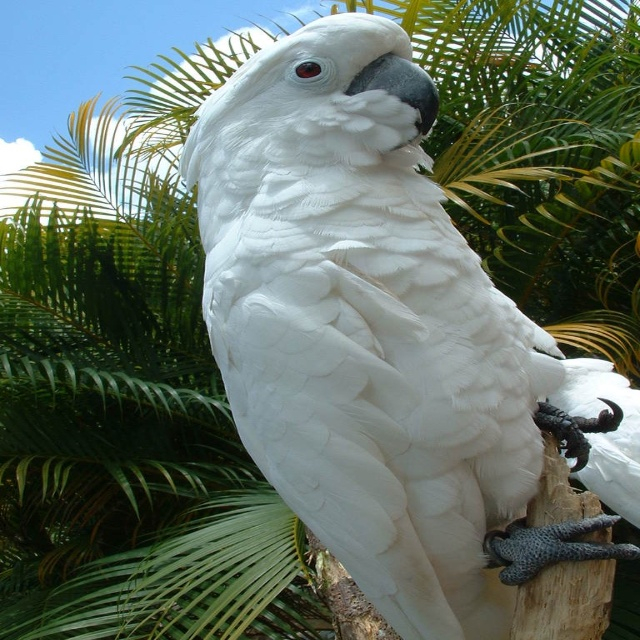Parrot: (178, 12, 640, 640)
